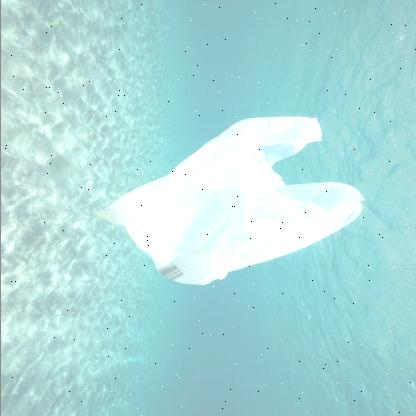Others: (93, 115, 366, 287)
